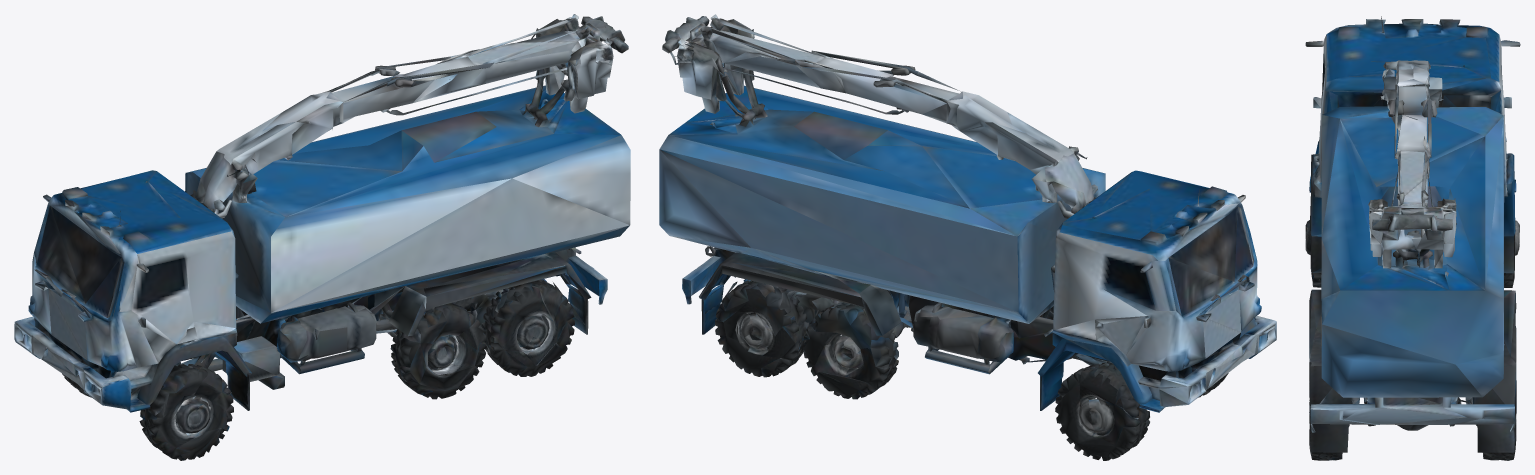
Rendered from fed_hero_bastion_alt.glb.
The picture shows the model from 3 angles, left to right: view 1: azimuth 30°, elevation 25°; view 2: azimuth 150°, elevation 25°; view 3: azimuth 270°, elevation 25°; orthographic projection. The views are drawn at different scales.
Size of the model in its own units: 1.9 by 0.9679 by 0.6046.
Materials: 1 (1 with a texture image).
